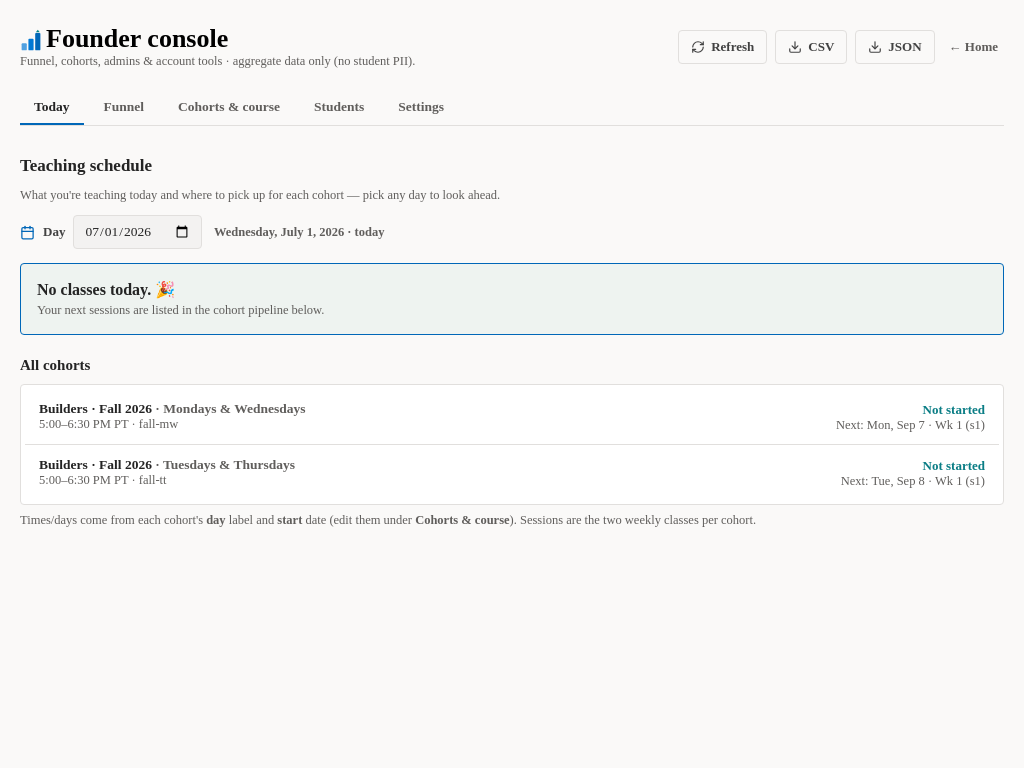
FounderDashboard (account-gated) › shows 'Where enrollments & applications come from' + per-application location (SPECS/024)
The image size is (1024, 768).
Click the button "Funnel".
click(124, 106)  # box [104,99,144,114]
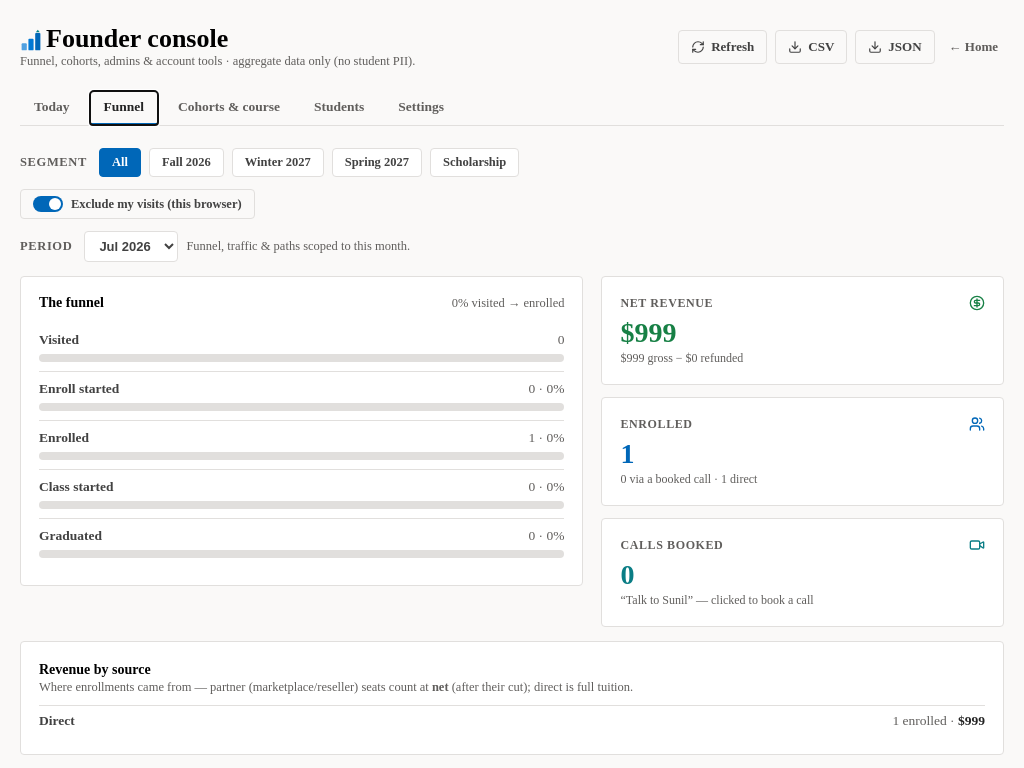
Note: per-application location shows in the Free applications list
Click the button "Students".
click(339, 106)  # box [314,99,364,114]
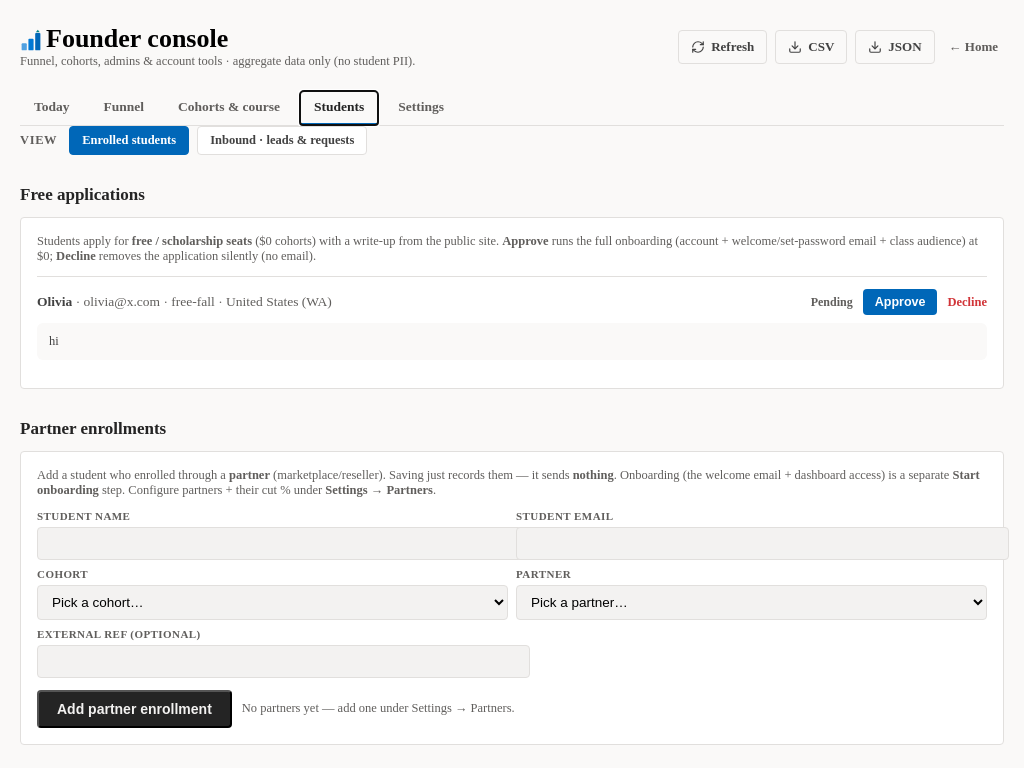
Now the text "Olivia · olivia@x.com · free-fall · United States (WA)" is shown, box [37,294,332,310]
Now the text "· olivia@x.com · free-fall · United States (WA)" is shown, box [76,294,332,309]
